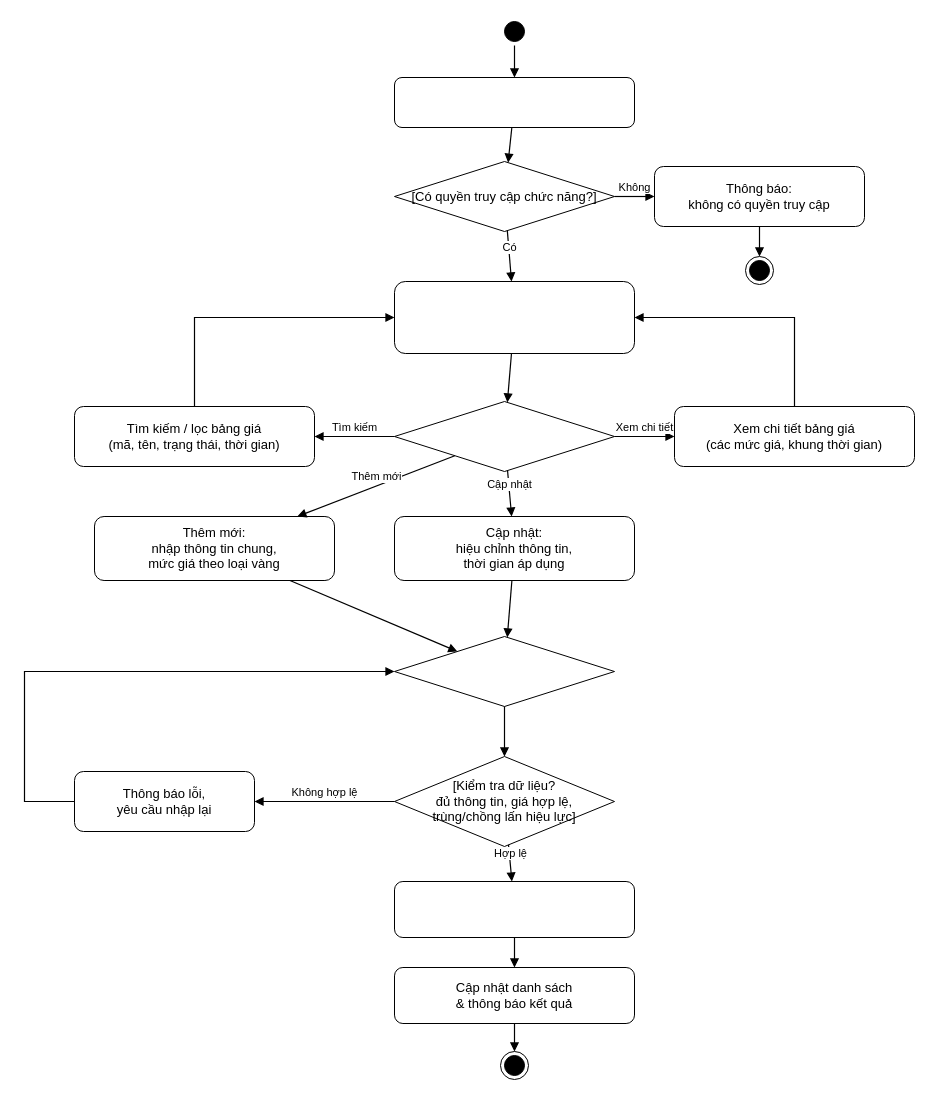
Image size: 933x1097. Some labels were removed from this diagram. Here are the shapes that lost their labels. From the top down, the box of each, then its label:
(394, 76, 634, 128): Mở màn hình quản lý bảng giá
(394, 280, 634, 354): Hiển thị danh sách bảng giá (mã, tên, thời gian áp dụng, trạng thái)
(394, 400, 614, 472): [Chọn thao tác]
(394, 880, 634, 938): Lưu bảng giá vào cơ sở dữ liệu (qua Repository)
